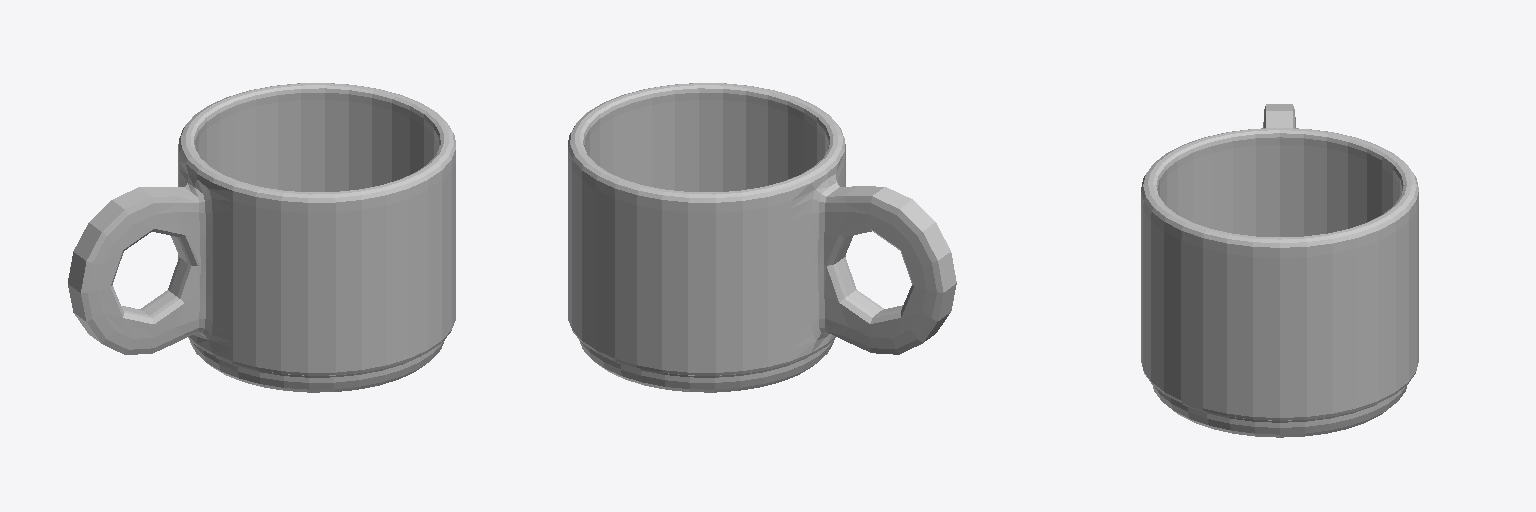
The model's file is mug-031.obj.
3 renders of one model, left to right at view 1: azimuth 30°, elevation 25°; view 2: azimuth 150°, elevation 25°; view 3: azimuth 270°, elevation 25°, orthographic.
Visible parts, largest first — view 1: mug-031; view 2: mug-031; view 3: mug-031.
Boxes of the visible parts, x1=… form: mug-031: x1=68, y1=83, x2=455, y2=392; mug-031: x1=568, y1=83, x2=956, y2=392; mug-031: x1=1141, y1=104, x2=1418, y2=437.
Size of the model in its own units: 0.1298 by 0.0696 by 0.086.